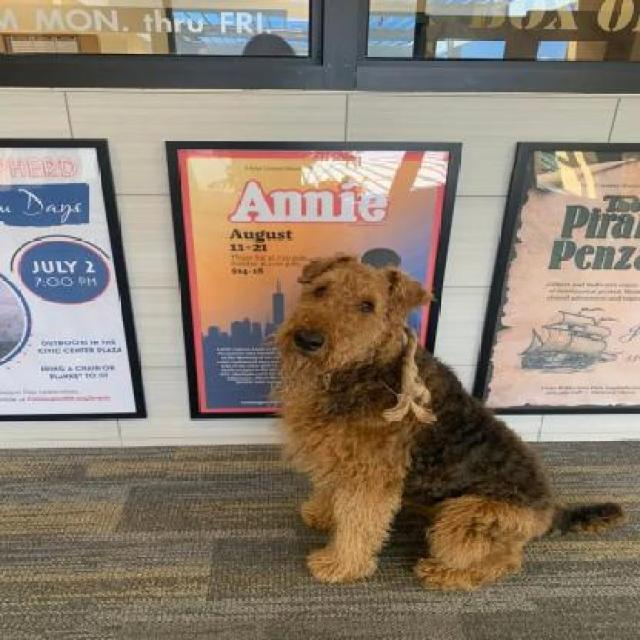animals: (268, 253, 634, 601)
